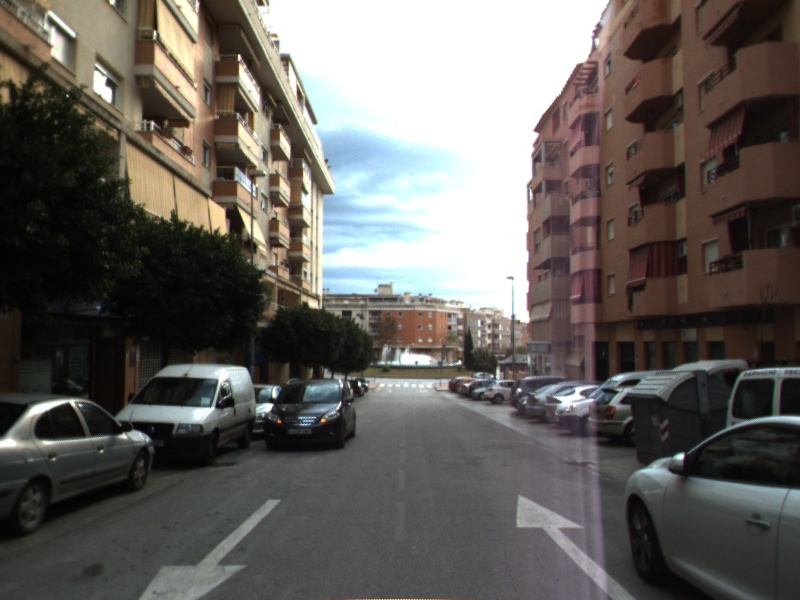STRAIGHT: (513, 491, 640, 600)
